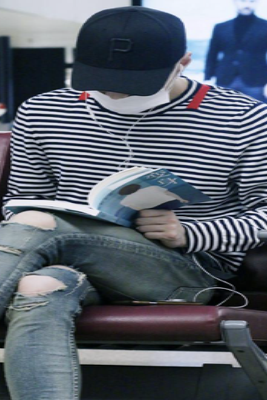mask_weared_incorrect: (89, 76, 175, 116)
